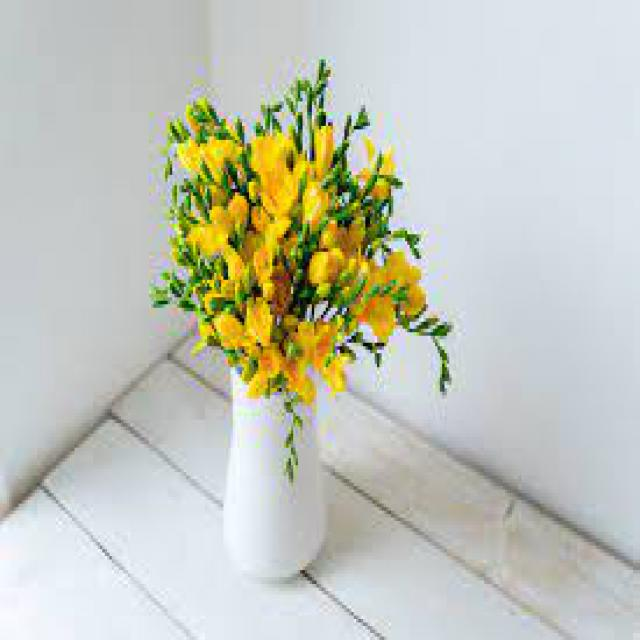freesia: (247, 131, 295, 196), (246, 286, 278, 348), (257, 335, 278, 379)
